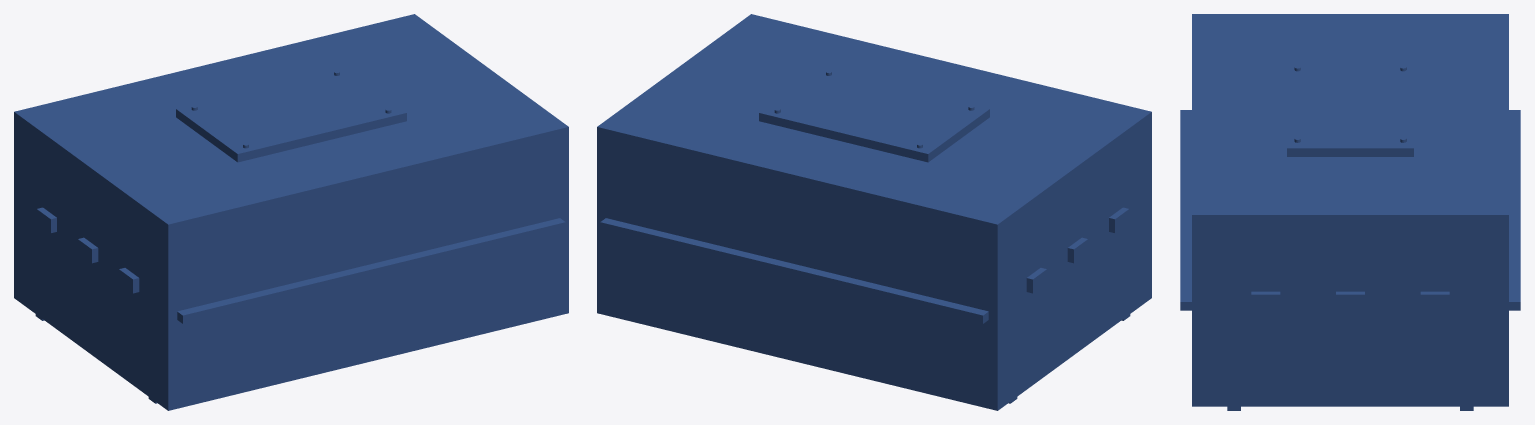
3 views of the same model, side by side, from view 1: azimuth 30°, elevation 25°; view 2: azimuth 150°, elevation 25°; view 3: azimuth 270°, elevation 25° (orthographic). The views are drawn at different scales.
Parts seen in each view (by area): view 1: Node; view 2: Node; view 3: Node.
Part boxes in pixels (x1,y1,x2,y2): Node: (14,14,568,410); Node: (597,14,1151,410); Node: (1180,14,1520,410).
Bounding box in the file's own units: 0.928 × 0.644 × 0.438.
